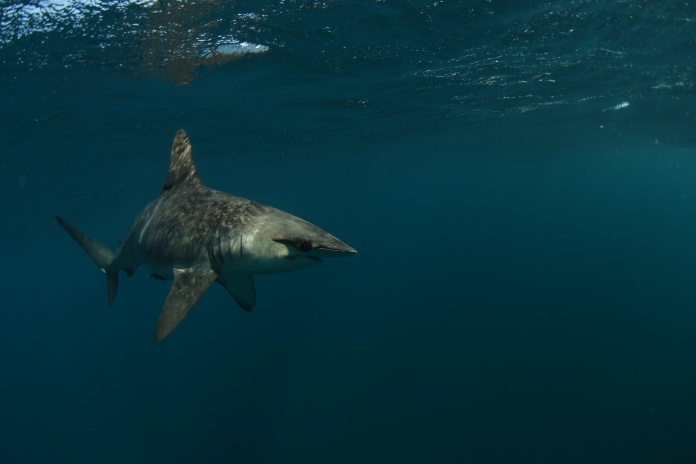Hammer: (24, 111, 407, 363)
